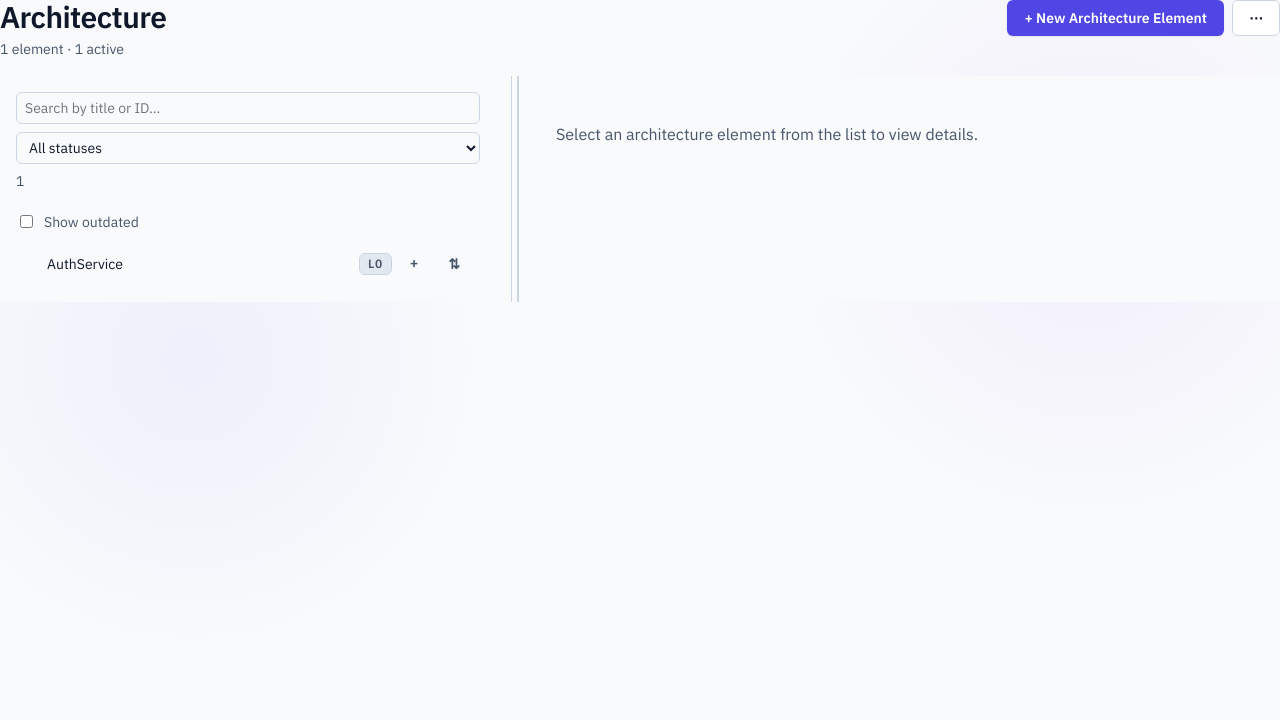
Scenario: ArchitectureEditors — create dialog a11y (issue #955) › names the create dialog after its translated title
Click the button with test id "create-arch-btn" at [1116, 18], box [1007, 0, 1224, 36]
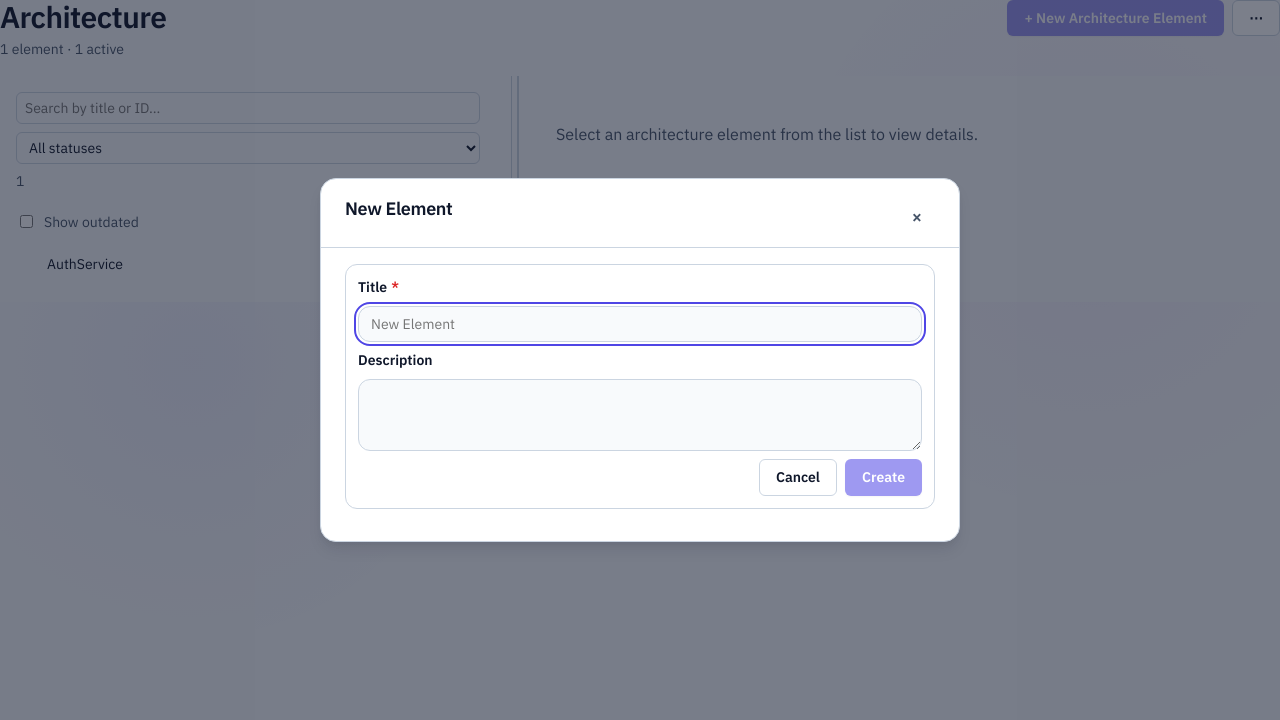
Expected: the dialog "New Element" is shown, [320, 178, 960, 542]
